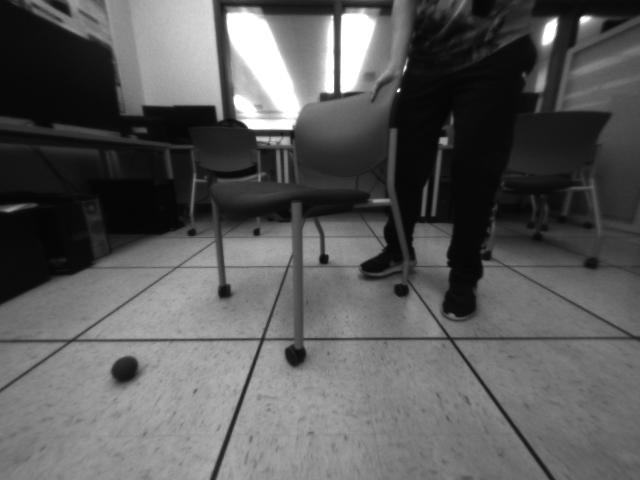dogtoy: (102, 350, 148, 391)
